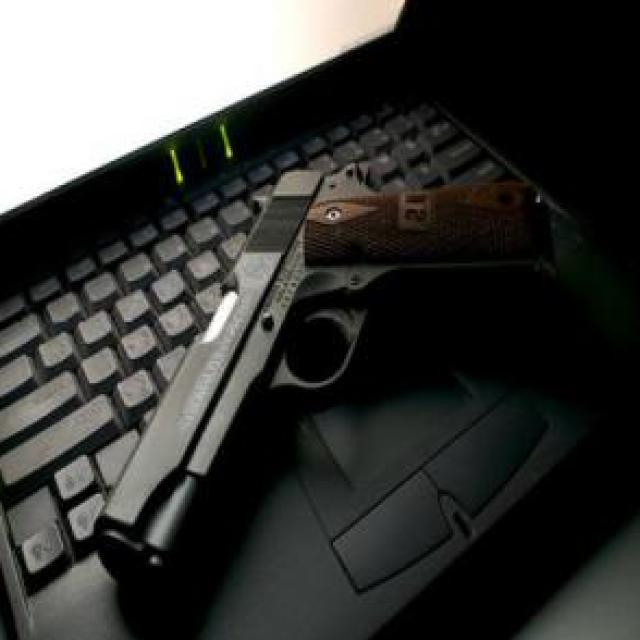pistol: (94, 174, 550, 590)
